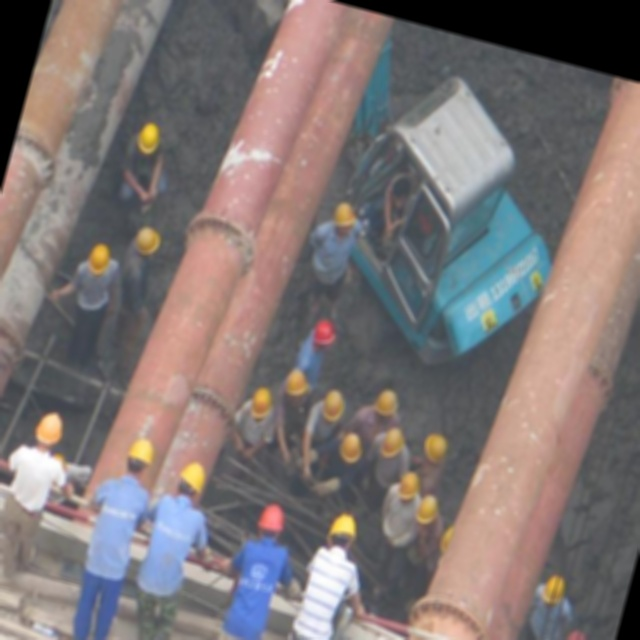Con_Casco: (175, 458, 212, 503), (122, 435, 158, 478), (255, 502, 291, 545), (325, 509, 361, 552), (328, 203, 360, 246), (247, 384, 278, 424)
Sin_Chaleco: (79, 477, 151, 583), (137, 495, 210, 597), (221, 536, 287, 640), (291, 546, 359, 640)
